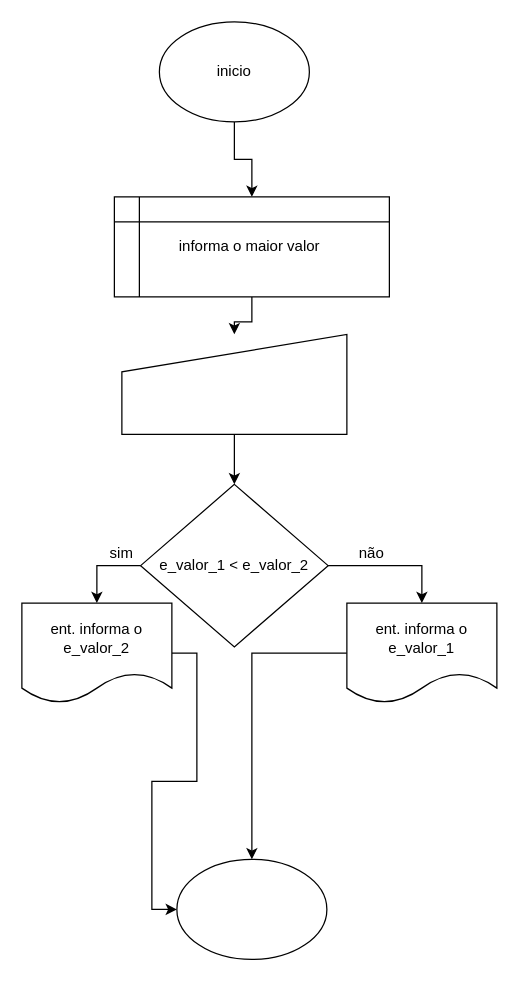
The diagram is 519 pixels wide and 981 high, and some of its shapes have lost their labels. Here are the shapes that lost their labels. From the top down, the box of each, then its label:
(121, 333, 347, 434): e_valor_1; e_valor_2
(176, 858, 327, 959): saida
